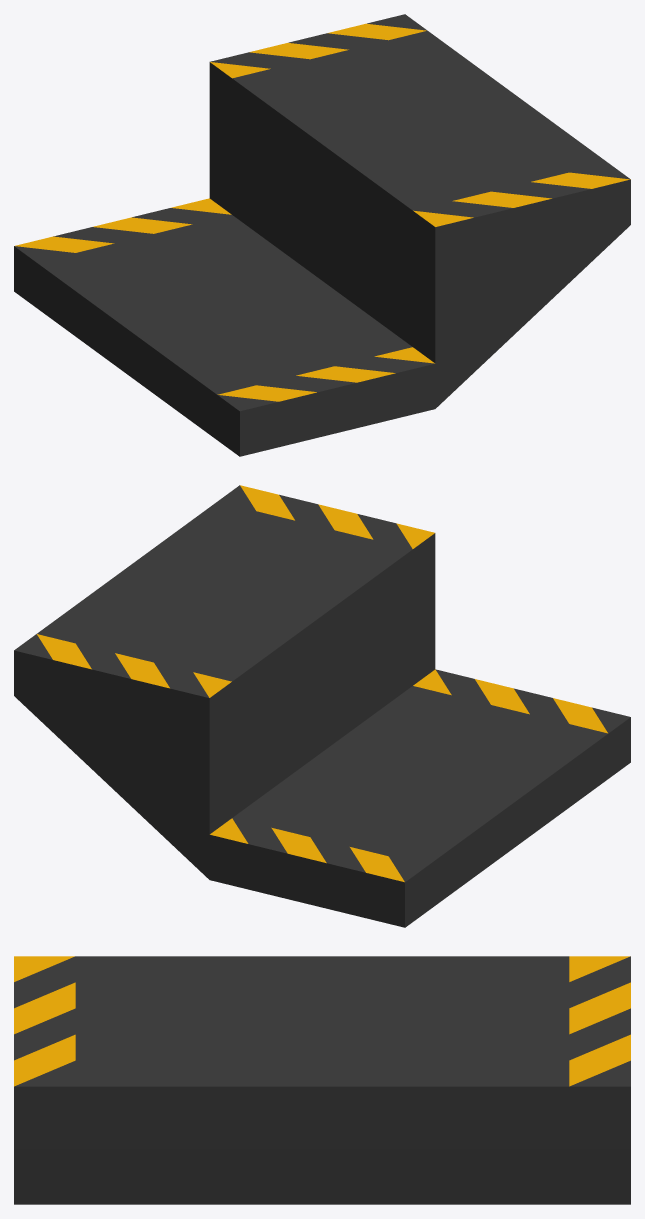
3 views of the same model, one above another, from view 1: azimuth 30°, elevation 25°; view 2: azimuth 150°, elevation 25°; view 3: azimuth 270°, elevation 25° (orthographic). The views are drawn at different scales.
Visible parts, largest first — view 1: k3; view 2: k3; view 3: k3.
Boxes of the visible parts, <box> form: k3: <box>14,14,630,456</box>; k3: <box>14,485,630,927</box>; k3: <box>14,956,630,1204</box>.
Bounding box in the file's own units: 9 × 4 × 9.
